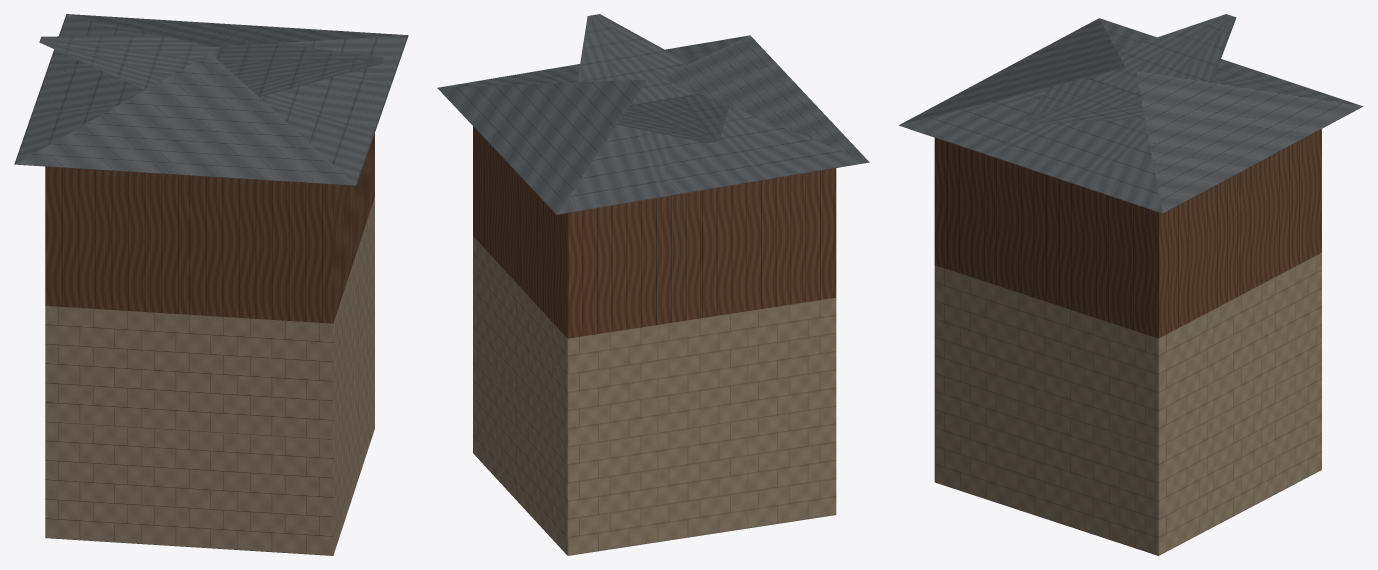
Rendered from bld_c2_-15_676.gltf.
3 renders of one model, left to right at view 1: azimuth 30°, elevation 25°; view 2: azimuth 150°, elevation 25°; view 3: azimuth 270°, elevation 25°, orthographic. The views are drawn at different scales.
Visible parts, largest first — view 1: bld_c2_-15_676; view 2: bld_c2_-15_676; view 3: bld_c2_-15_676.
Part boxes in pixels (x1,y1,x2,y2): bld_c2_-15_676: [14, 14, 408, 555]; bld_c2_-15_676: [437, 14, 869, 555]; bld_c2_-15_676: [899, 14, 1363, 555].
Size of the model in its own units: 9.01 by 8.7 by 9.05.
Materials: 3 (3 with a texture image).
